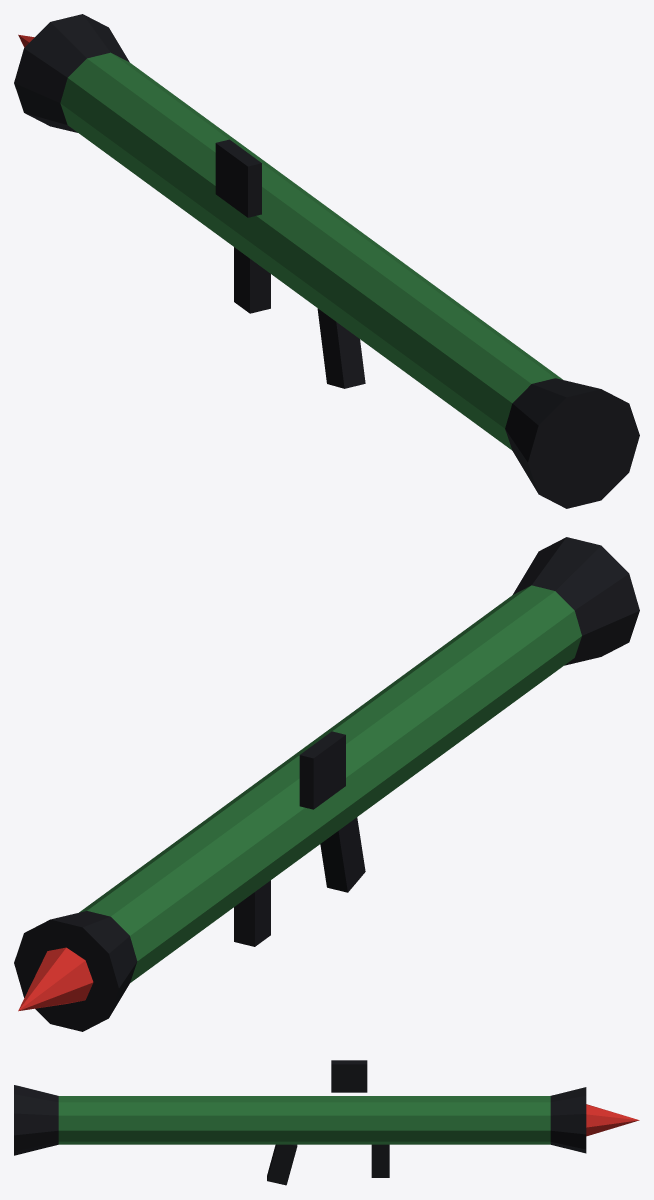
The model's file is wpn_rocket.glb.
The picture shows the model from 3 angles, top to bottom: view 1: azimuth 30°, elevation 25°; view 2: azimuth 150°, elevation 25°; view 3: azimuth 270°, elevation 25°; orthographic projection. The views are drawn at different scales.
Parts seen in each view (by area): view 1: wpn_rocket__body; view 2: wpn_rocket__body; view 3: wpn_rocket__body.
Part boxes in pixels (bbox=[...]): wpn_rocket__body: bbox=[14, 14, 639, 508]; wpn_rocket__body: bbox=[14, 537, 639, 1031]; wpn_rocket__body: bbox=[14, 1060, 639, 1185].
Bounding box in the file's own units: 0.16 × 0.269 × 1.4.
